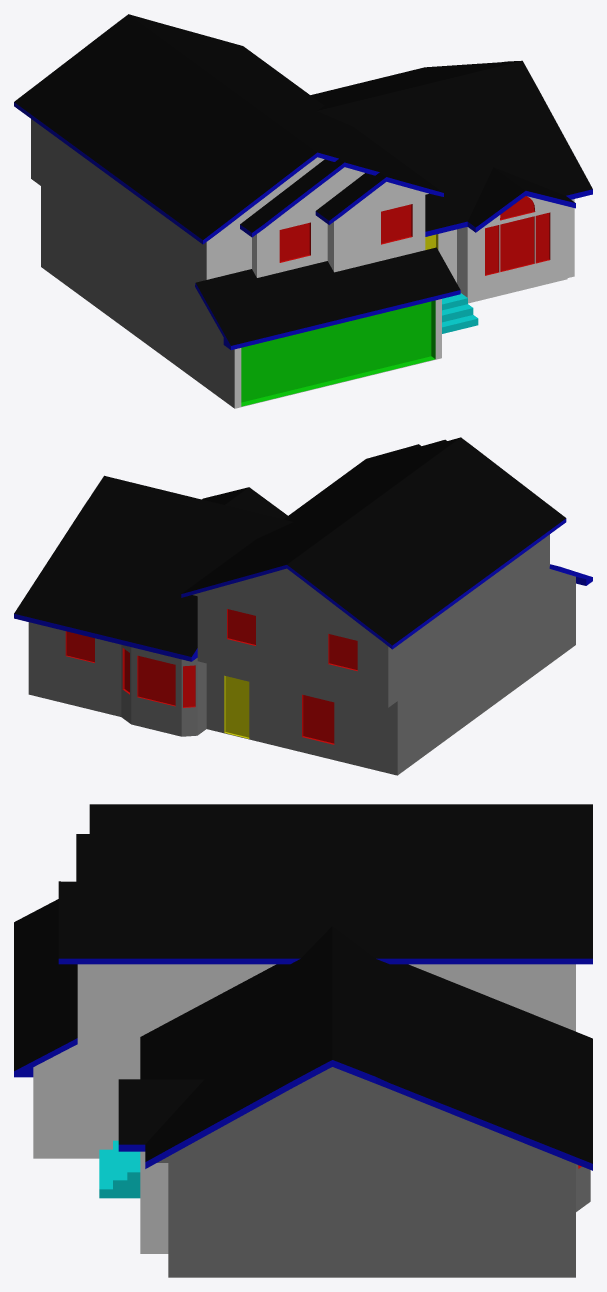
Rendered from House.fbx.
3 renders of one model, top to bottom at view 1: azimuth 30°, elevation 25°; view 2: azimuth 150°, elevation 25°; view 3: azimuth 270°, elevation 25°, orthographic. The views are drawn at different scales.
Parts seen in each view (by area): view 1: House; view 2: House; view 3: House.
Boxes of the visible parts, <box> form: House: <box>14,14,592,408</box>; House: <box>14,437,592,775</box>; House: <box>14,804,592,1277</box>.
Bounding box in the file's own units: 23.32 × 11.67 × 21.34.
